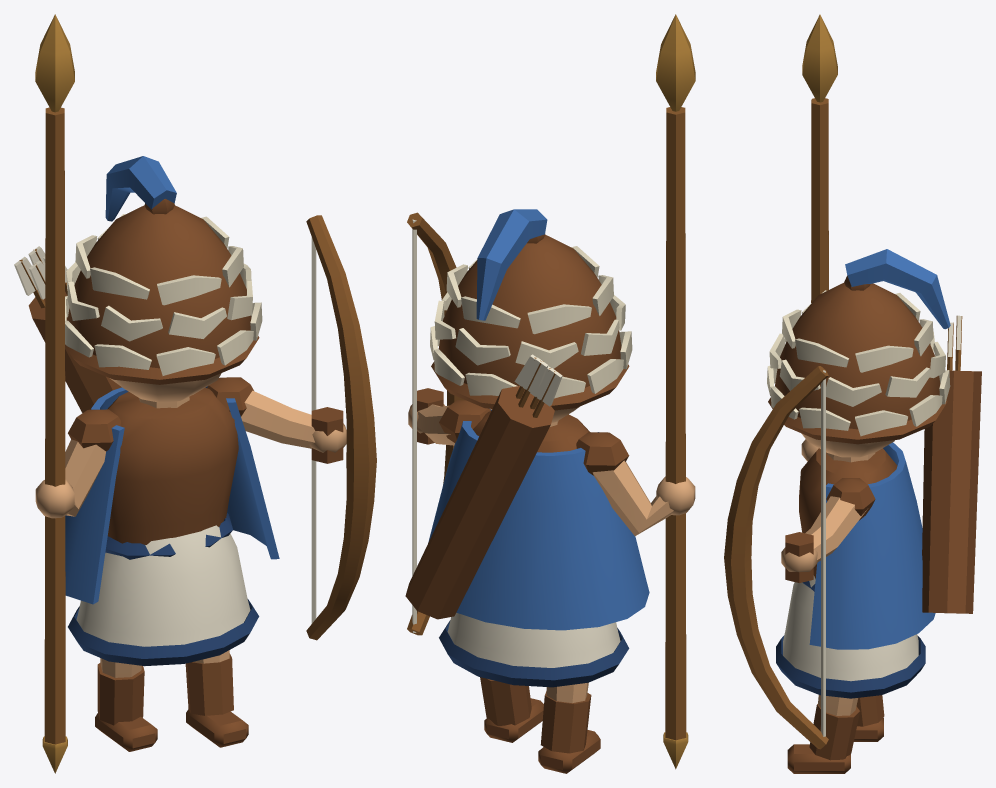
Rendered from meriones.glb.
The picture shows the model from 3 angles, left to right: view 1: azimuth 30°, elevation 25°; view 2: azimuth 150°, elevation 25°; view 3: azimuth 270°, elevation 25°; orthographic projection. The views are drawn at different scales.
Visible parts, largest first — view 1: meriones; view 2: meriones; view 3: meriones.
Boxes of the visible parts, x1,y1,x2,y2 form: meriones: [14, 14, 376, 773]; meriones: [405, 14, 695, 773]; meriones: [724, 14, 981, 773].
Size of the model in its own units: 0.4516 by 1.1 by 0.376.
